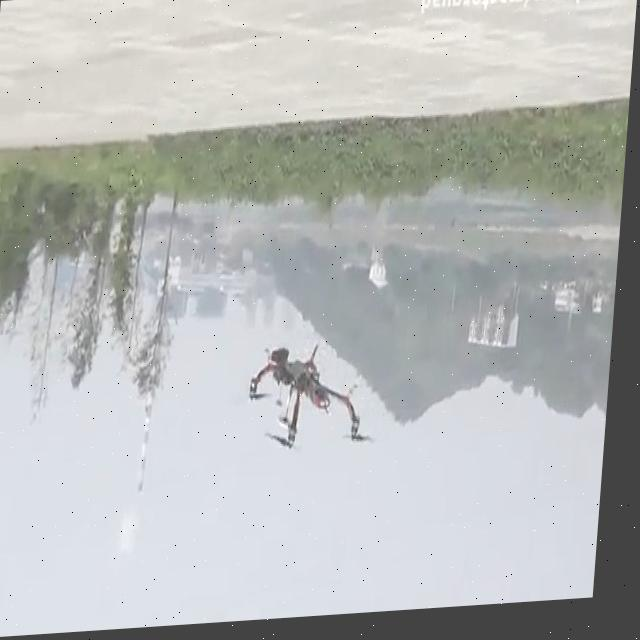drone: (248, 342, 390, 468)
